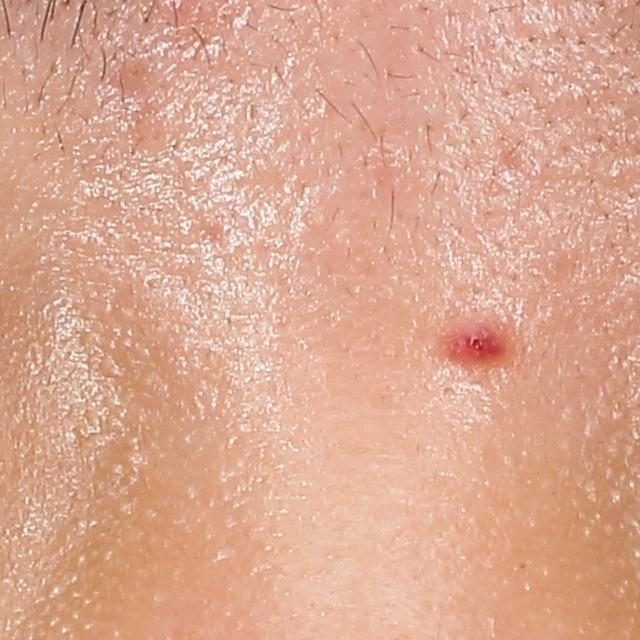papule: (434, 324, 515, 369)
